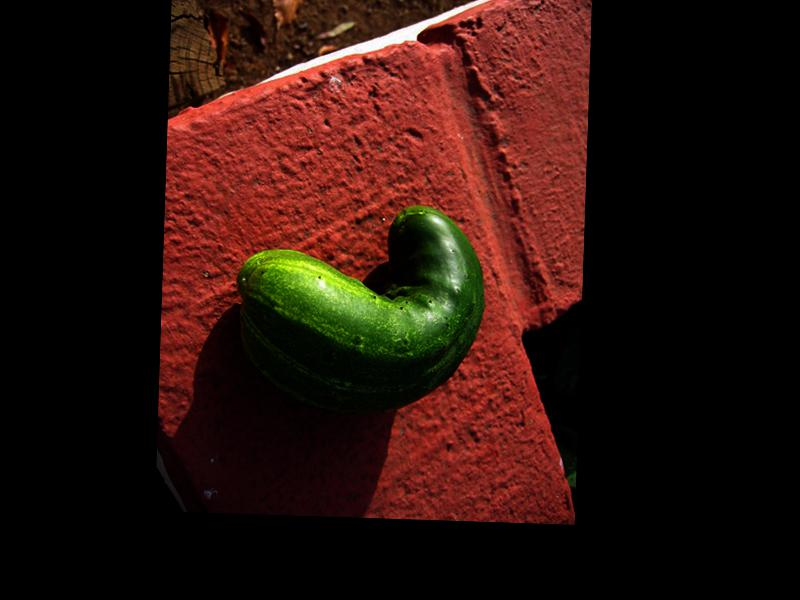Cucumber: (234, 197, 487, 417)
